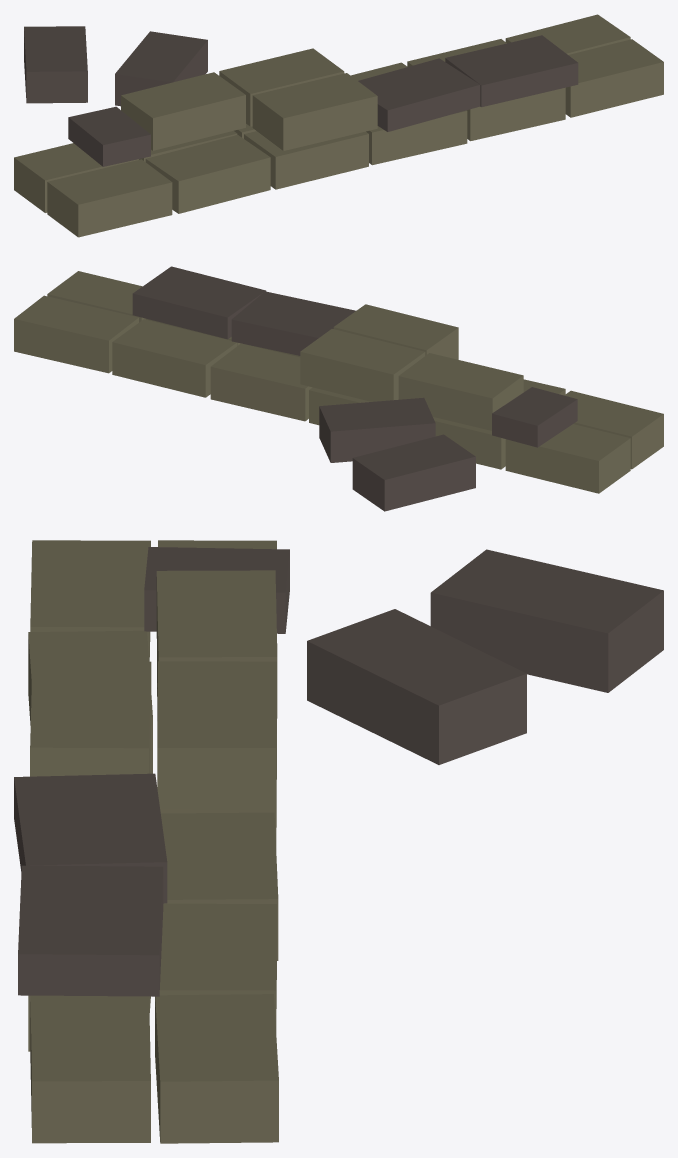
Rendered from SM_PretilTramo_v1_Talud_e2_MuyDanado_LOD0.fbx.
The picture shows the model from 3 angles, top to bottom: view 1: azimuth 30°, elevation 25°; view 2: azimuth 150°, elevation 25°; view 3: azimuth 270°, elevation 25°; orthographic projection. The views are drawn at different scales.
Visible parts, largest first — view 1: SM_pretil_azotea_v6_LOD0; view 2: SM_pretil_azotea_v6_LOD0; view 3: SM_pretil_azotea_v6_LOD0.
Part boxes in pixels (<box>): SM_pretil_azotea_v6_LOD0: <box>14,14,663,237</box>; SM_pretil_azotea_v6_LOD0: <box>14,266,663,511</box>; SM_pretil_azotea_v6_LOD0: <box>14,540,663,1143</box>.
Size of the model in its own units: 5.07 by 0.57 by 2.57.
